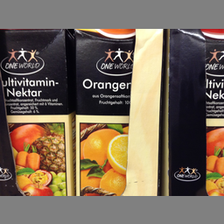juice: (1, 30, 75, 196), (74, 29, 136, 195)
